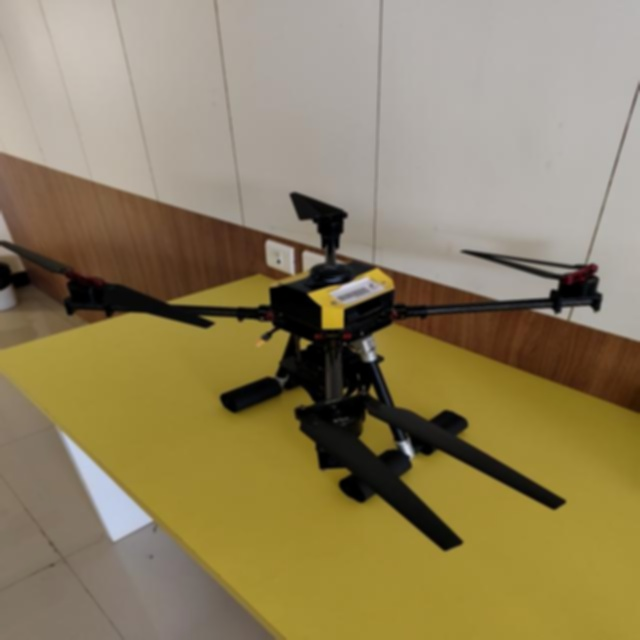quadcopter: (0, 185, 611, 554)
